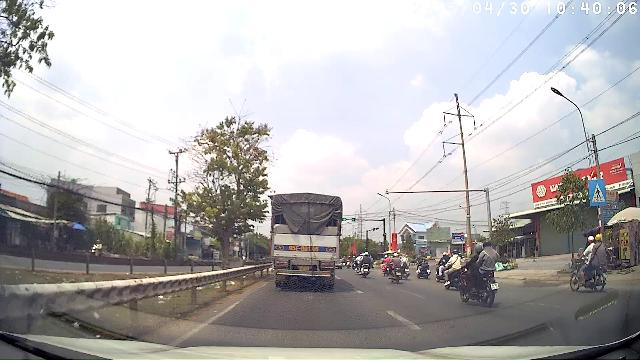423a-duong-nguoi-di-bo-sang-ngang-1: (589, 180, 607, 206)
